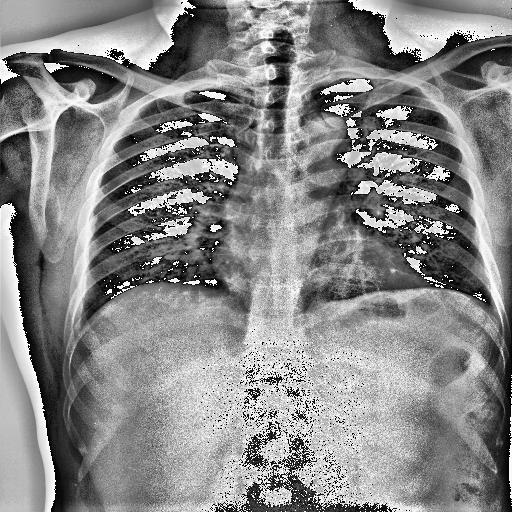0- Aortic enlargement: (284, 111, 352, 175), (296, 112, 350, 186), (294, 114, 348, 160)
10- Pleural effusion: (73, 282, 87, 334)
11- Pleural thickening: (73, 282, 87, 334), (183, 84, 212, 100)
3- Cardiomegaly: (212, 246, 426, 310)
